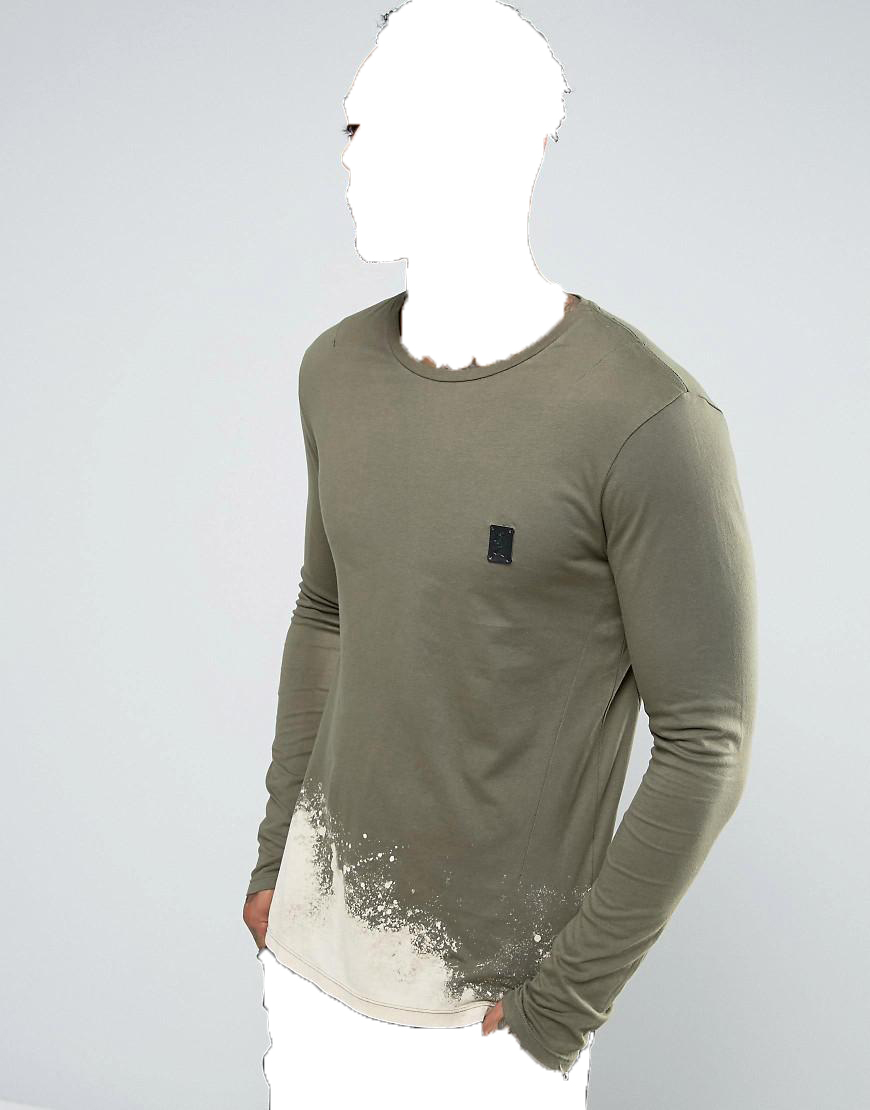teeshirt: (237, 281, 766, 1073)
